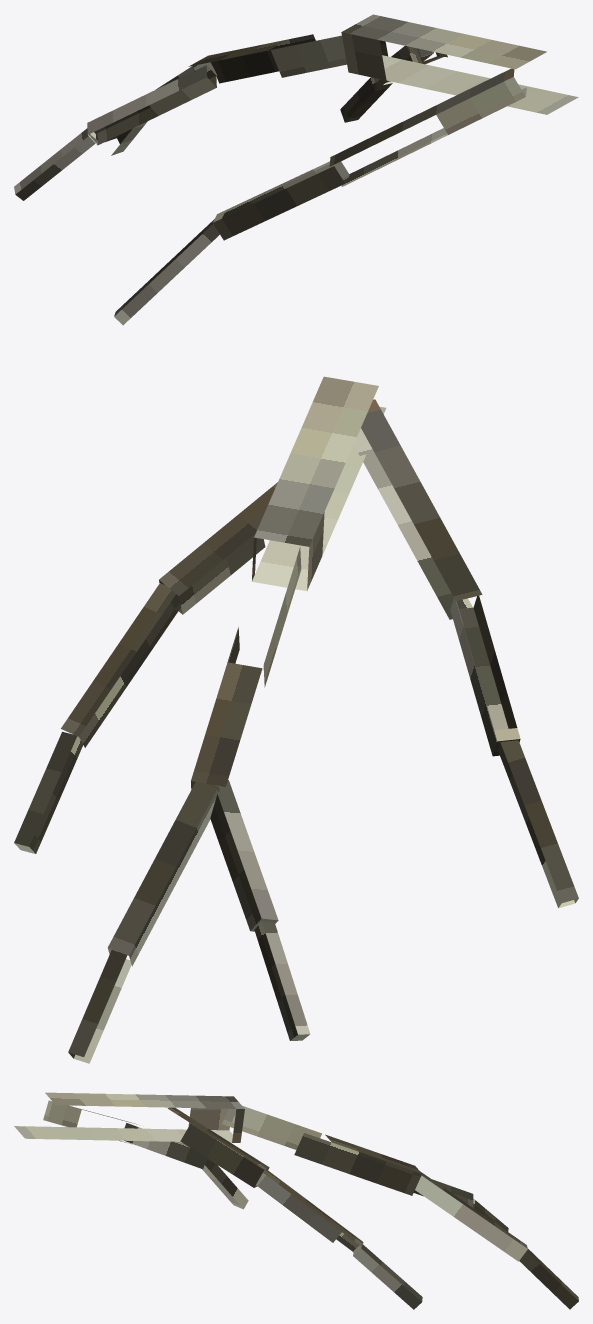
The model's file is birch_twig_branch_down_2.obj.
The picture shows the model from 3 angles, top to bottom: view 1: azimuth 30°, elevation 25°; view 2: azimuth 150°, elevation 25°; view 3: azimuth 270°, elevation 25°; orthographic projection. The views are drawn at different scales.
Visible parts, largest first — view 1: cube; view 2: cube; view 3: cube.
Part boxes in pixels (x1=…): cube: x1=14, y1=14, x2=578, y2=325; cube: x1=14, y1=376, x2=578, y2=1063; cube: x1=14, y1=1092, x2=578, y2=1309.
Size of the model in its own units: 1.31 by 1.1 by 2.23.
